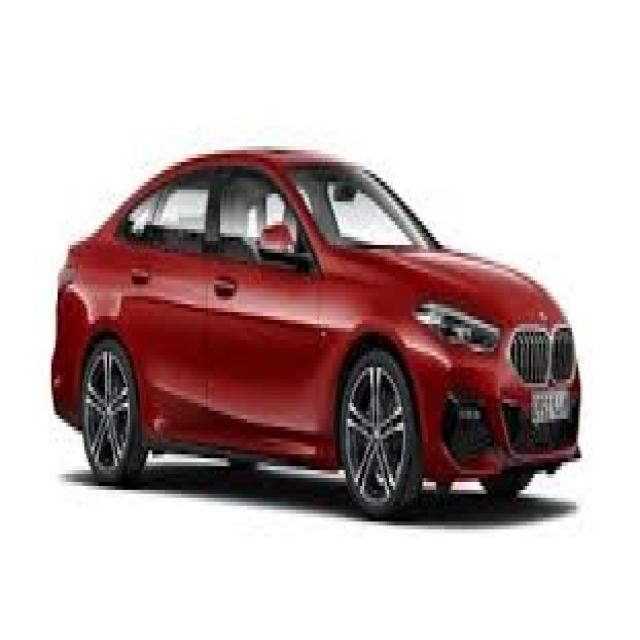car: (41, 153, 592, 534)
